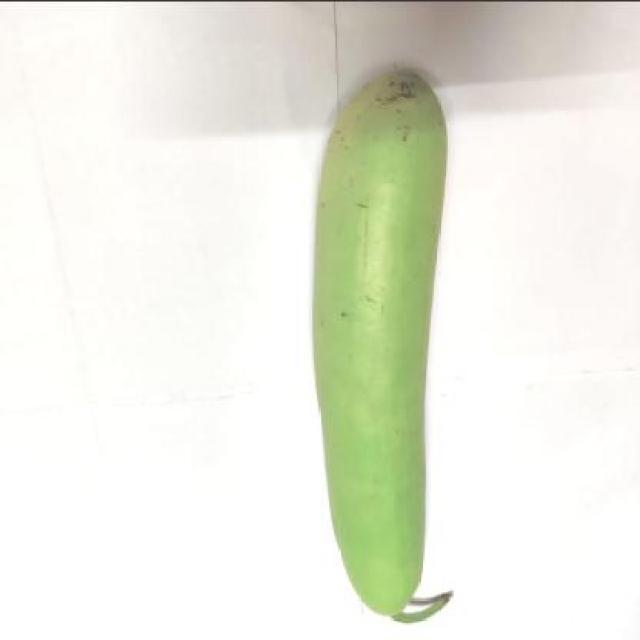Calabash: (311, 64, 460, 624)
